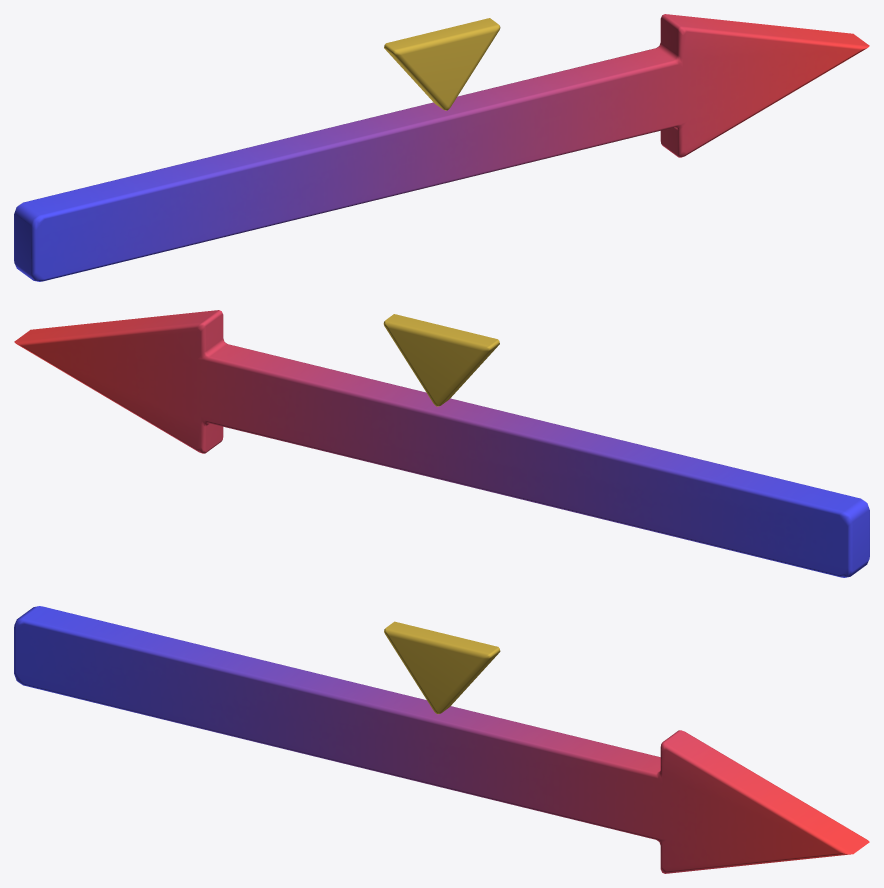
File: wendutiao.fbx
3 renders of one model, top to bottom at view 1: azimuth 30°, elevation 25°; view 2: azimuth 150°, elevation 25°; view 3: azimuth 330°, elevation 25°, orthographic.
Visible parts, largest first — view 1: wendutiao_jiantou, wendutiao_huakuai; view 2: wendutiao_jiantou, wendutiao_huakuai; view 3: wendutiao_jiantou, wendutiao_huakuai.
Boxes of the visible parts, box(x1,y1,x2,y2) form: wendutiao_jiantou: box(14, 14, 869, 281); wendutiao_huakuai: box(384, 18, 500, 110); wendutiao_jiantou: box(14, 310, 869, 577); wendutiao_huakuai: box(383, 314, 499, 406); wendutiao_jiantou: box(14, 606, 869, 873); wendutiao_huakuai: box(384, 621, 500, 714).
Size of the model in its own units: 11.75 by 2.33 by 0.5.
1 material, 1 textured.
